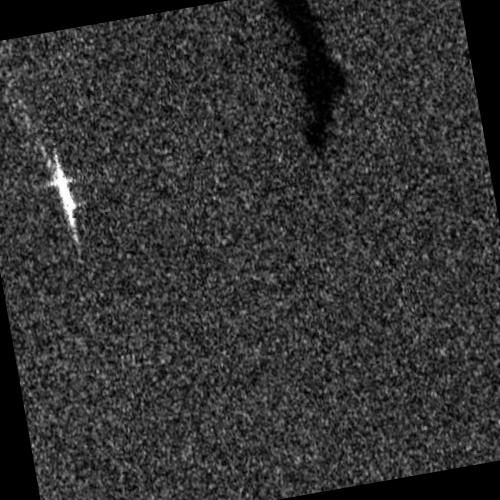ship: (52, 161, 77, 226)
